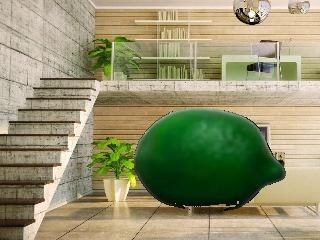lime: (134, 108, 286, 208)
